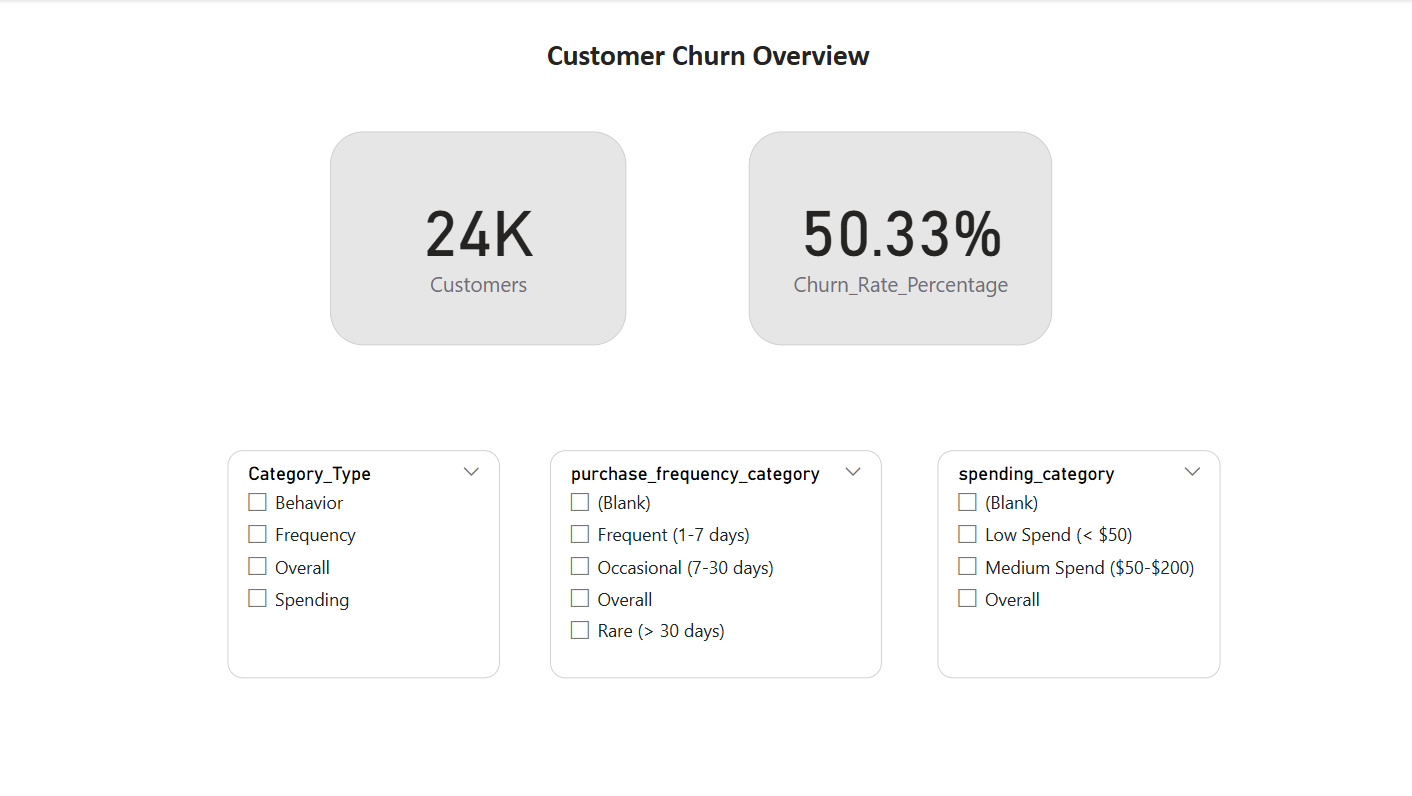

Layout of this report page (visuals, bound fields, positions):
{"tool":"powerbi","page":{"name":"Page 2","canvas":[1280,720],"ordinal":1},"visuals":[{"type":"slicer","fields":{"Values":["churn_overall.Category_Type"]},"box":[205.4,407.2,245.3,205.4],"z":0},{"type":"slicer","fields":{"Values":["churn_overall.purchase_frequency_category"]},"box":[495.6,407.2,298.8,205.4],"z":1000},{"type":"slicer","fields":{"Values":["churn_overall.spending_category"]},"box":[845.4,407.2,255.3,205.4],"z":2000},{"type":"card","fields":{"Values":["churn_overall.Total_Customers_Fixed"]},"box":[297.3,119.4,267.5,192.8],"z":3000},{"type":"card","fields":{"Values":["churn_overall.Churn_Rate_Percentage"]},"box":[674.9,119.5,273.9,193],"z":4000},{"type":"textbox","box":[487.6,29.9,337.1,61],"z":5000}]}

Visuals, with their boxes in screenshot pixels (x1, y1, x2, y2), scaled from the page's 1280x720 canvas onto the 1412x796 screenshot:
slicer - churn_overall.Category_Type: bbox=(227, 450, 497, 677)
slicer - churn_overall.purchase_frequency_category: bbox=(547, 450, 876, 677)
slicer - churn_overall.spending_category: bbox=(933, 450, 1214, 677)
card - churn_overall.Total_Customers_Fixed: bbox=(328, 132, 623, 345)
card - churn_overall.Churn_Rate_Percentage: bbox=(744, 132, 1047, 345)
textbox: bbox=(538, 33, 910, 100)
